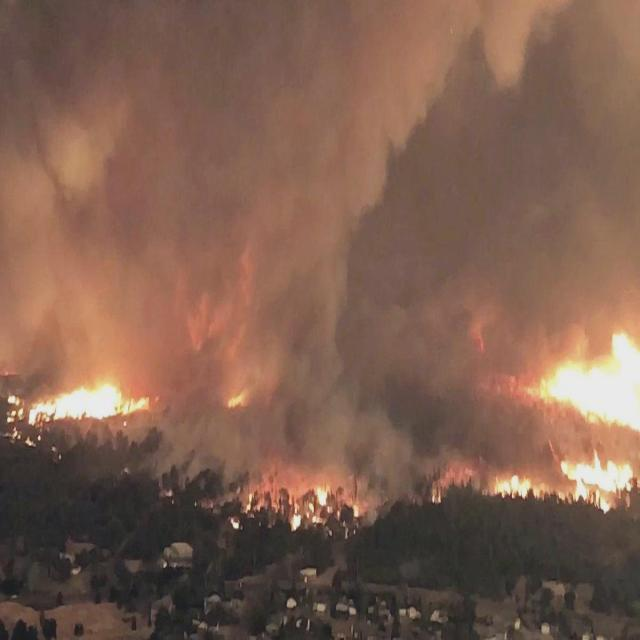Fire: (533, 326, 638, 522), (54, 111, 134, 364), (2, 369, 150, 461), (232, 463, 368, 551), (429, 450, 532, 517), (223, 388, 248, 412)
Smoke: (354, 0, 640, 309), (178, 6, 352, 234), (258, 235, 345, 460), (1, 0, 173, 99), (347, 316, 466, 441), (0, 108, 53, 356), (138, 102, 173, 361), (154, 370, 218, 495), (189, 244, 254, 358), (474, 316, 530, 442), (372, 442, 414, 518), (220, 419, 253, 457)
